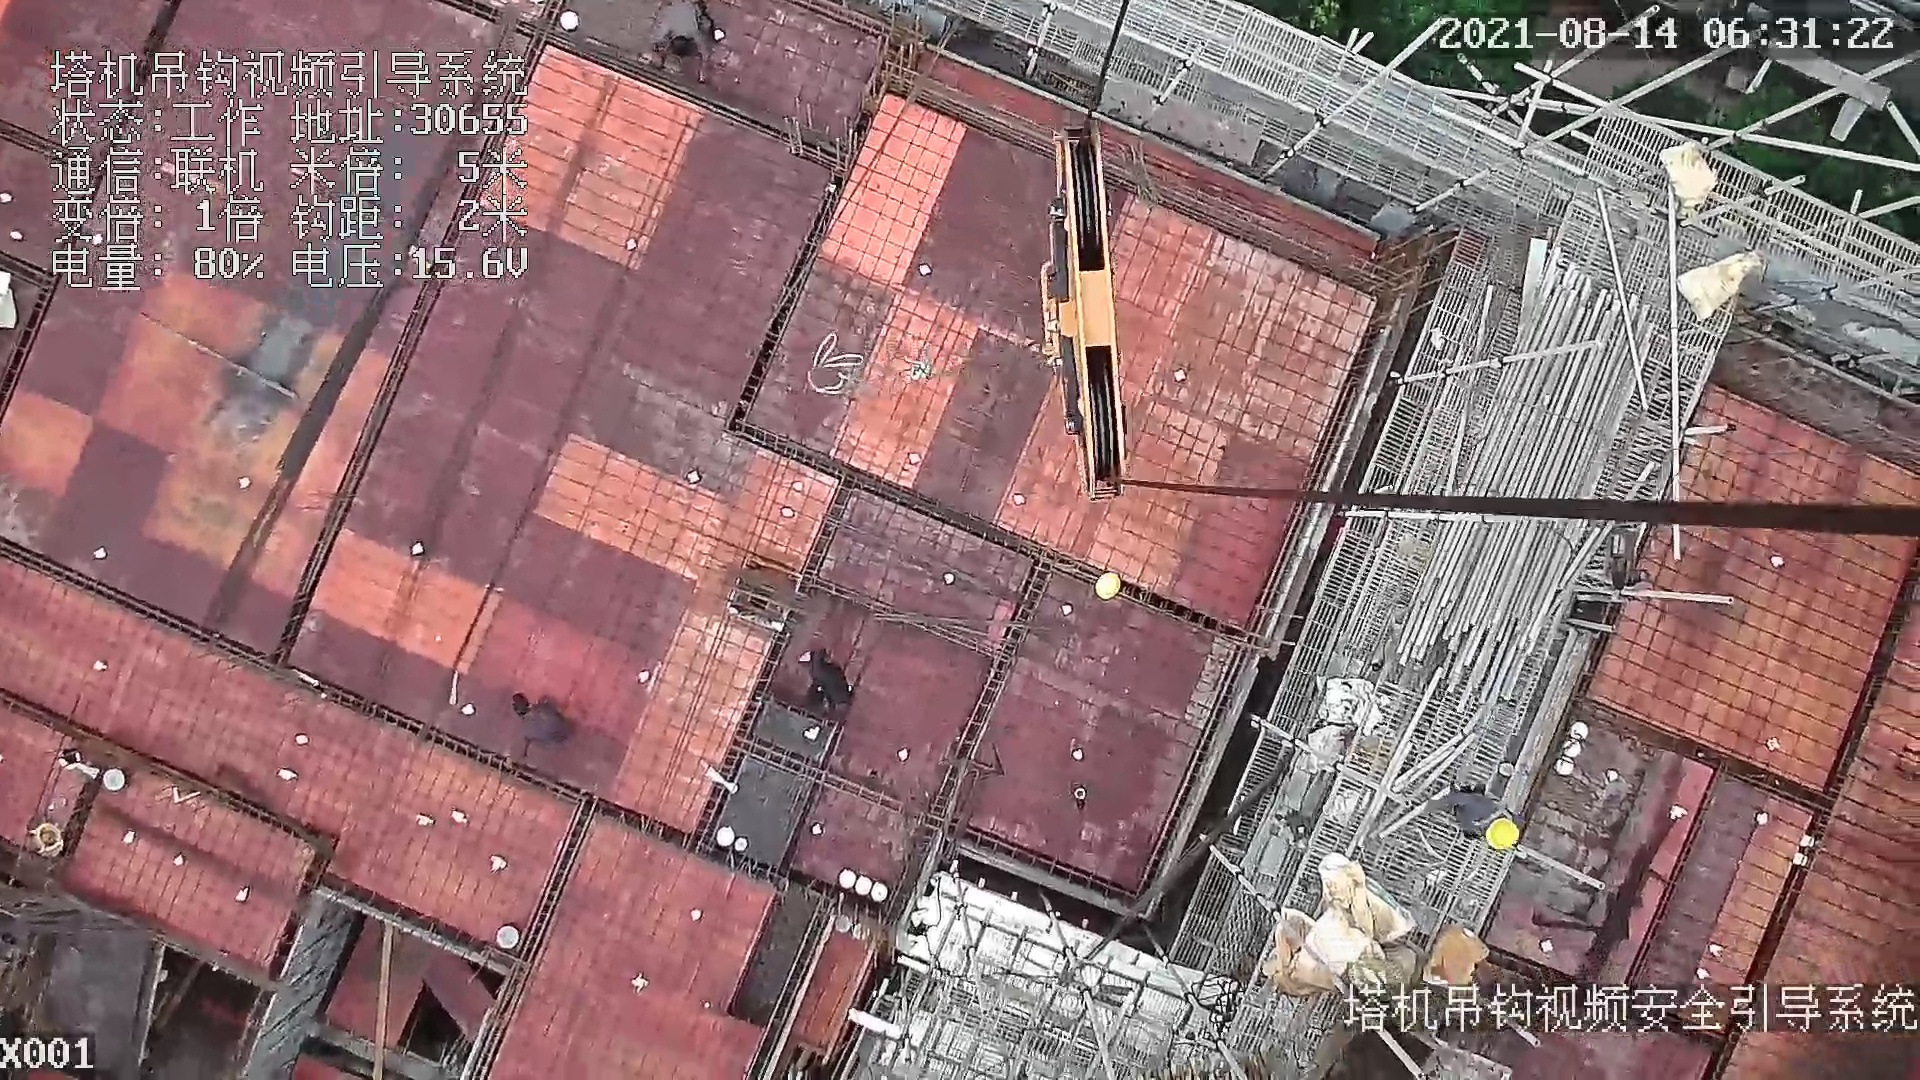helmet: (1485, 821, 1520, 854), (1090, 571, 1122, 603)
hook: (1033, 123, 1131, 499)
person: (1419, 789, 1527, 851), (1417, 787, 1525, 849), (645, 1, 725, 81), (795, 648, 856, 711)
scaffold: (1406, 240, 1645, 700)
